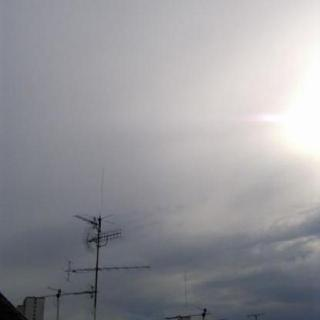Cirrostratus: (13, 0, 320, 289)
